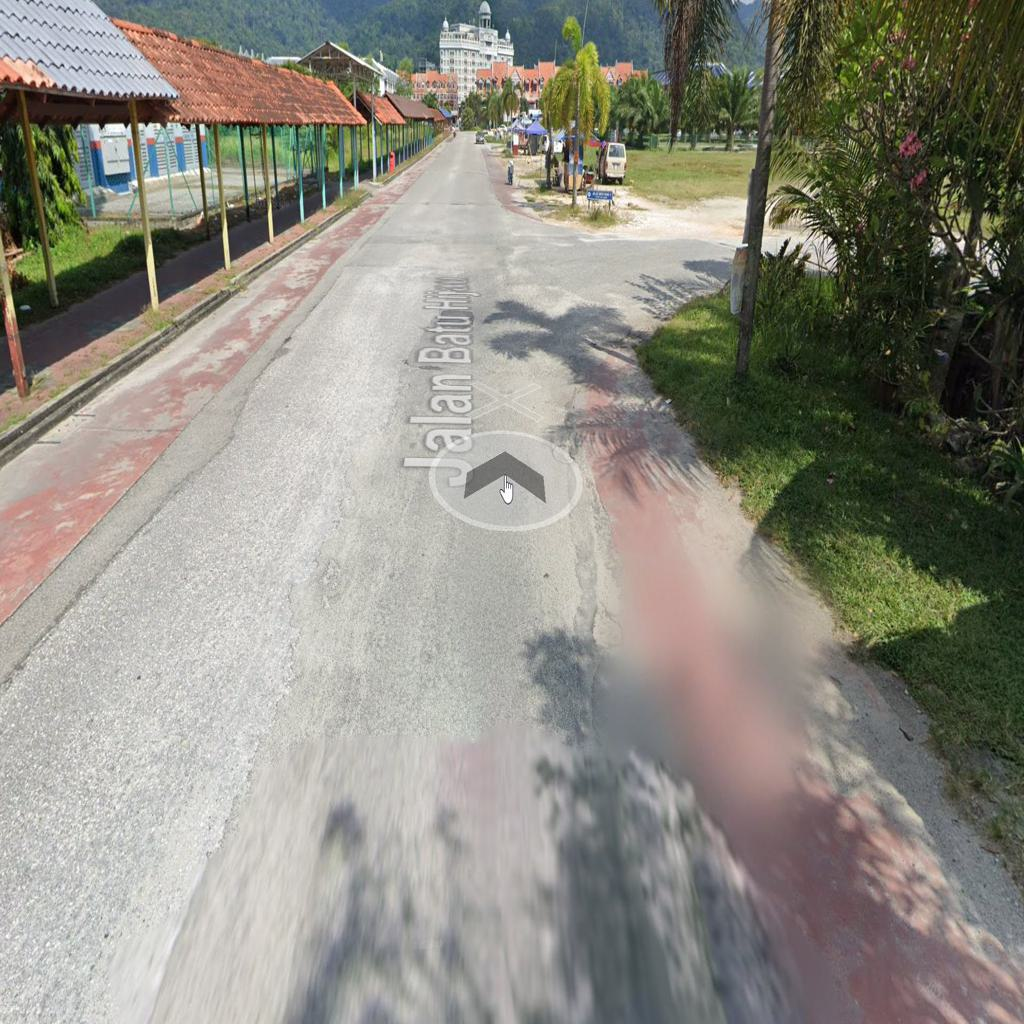Junction: (495, 178, 729, 396)
